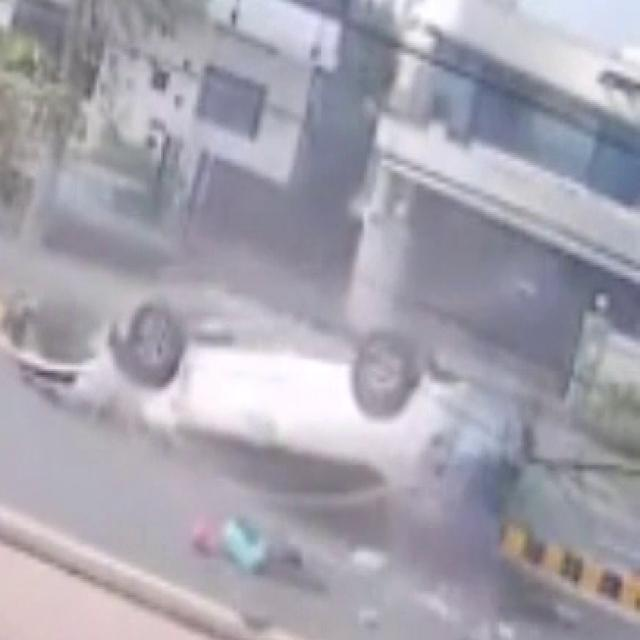accident: (59, 260, 477, 551)
